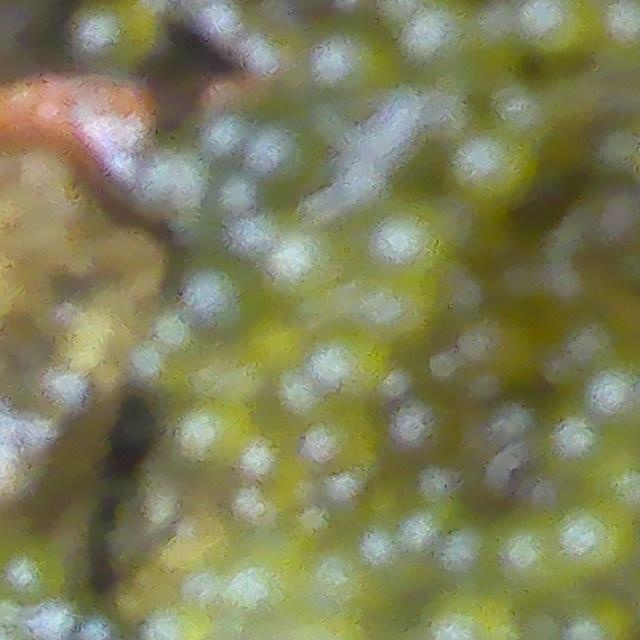SeaGrape: (422, 578, 523, 640), (182, 261, 262, 338), (495, 519, 566, 602), (456, 129, 534, 202), (268, 235, 340, 307), (562, 505, 628, 576), (560, 585, 640, 640), (373, 216, 444, 277), (514, 0, 591, 54), (546, 413, 604, 472)
